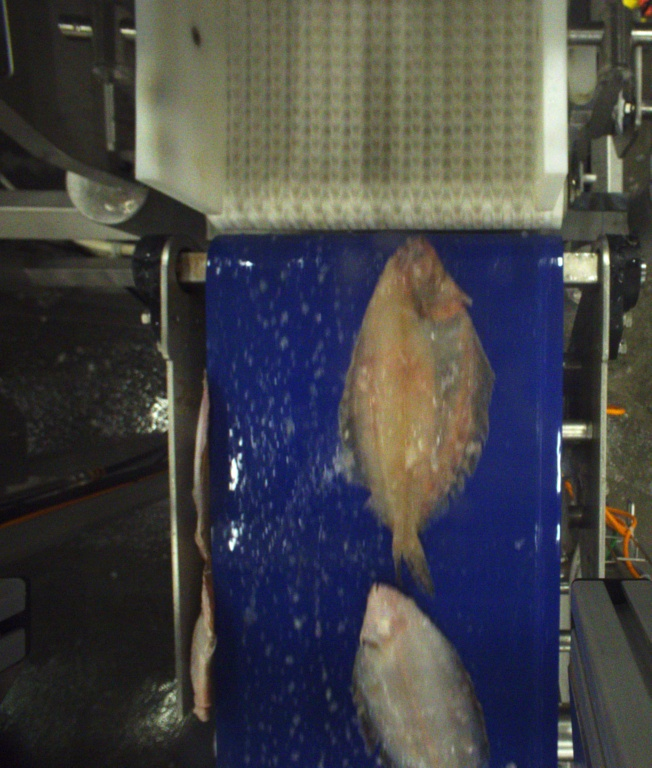WIT: (339, 233, 494, 595)
